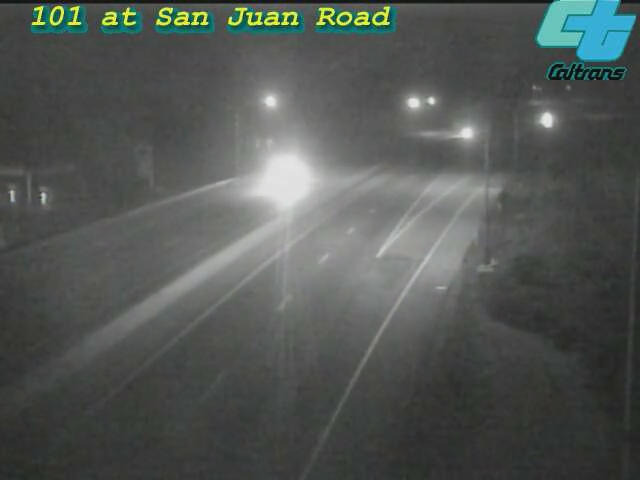vehicle: (245, 137, 325, 217), (441, 109, 491, 159), (519, 95, 569, 145)
